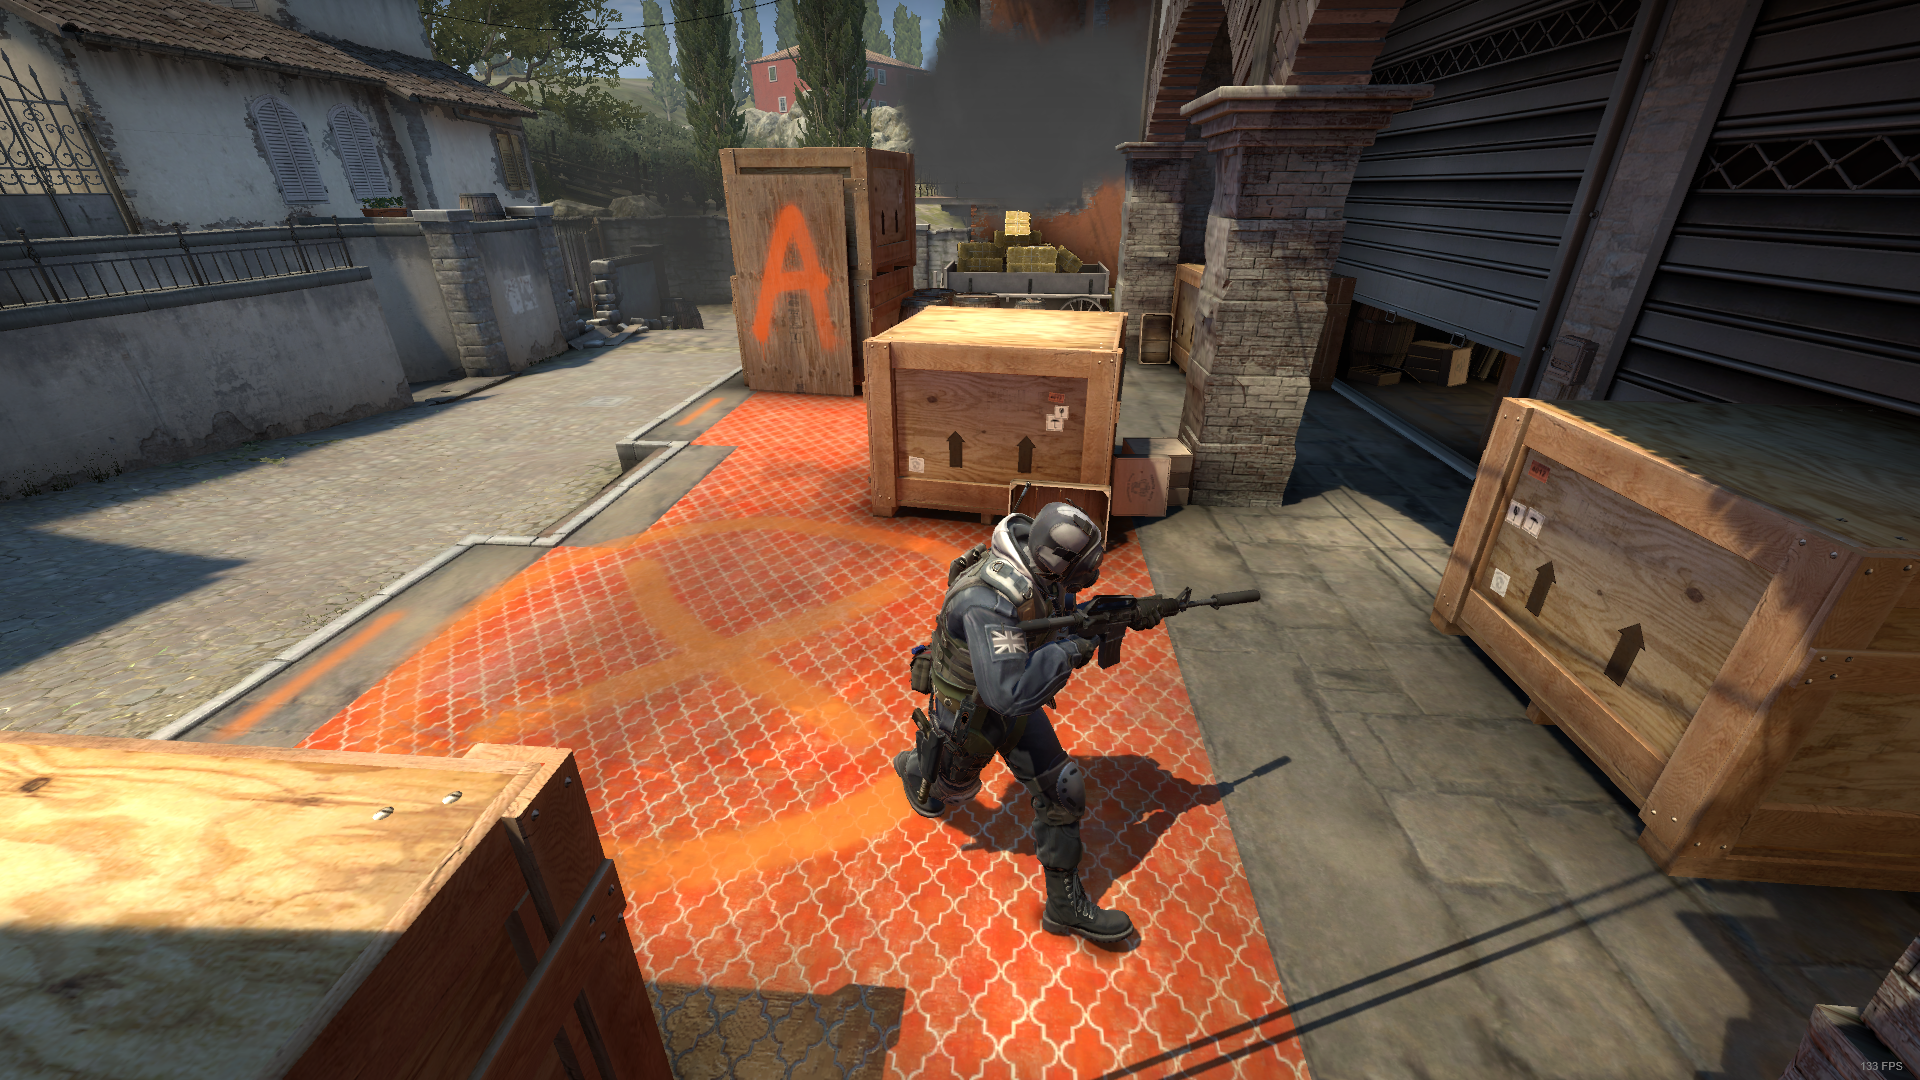ct: (891, 501, 1134, 948)
